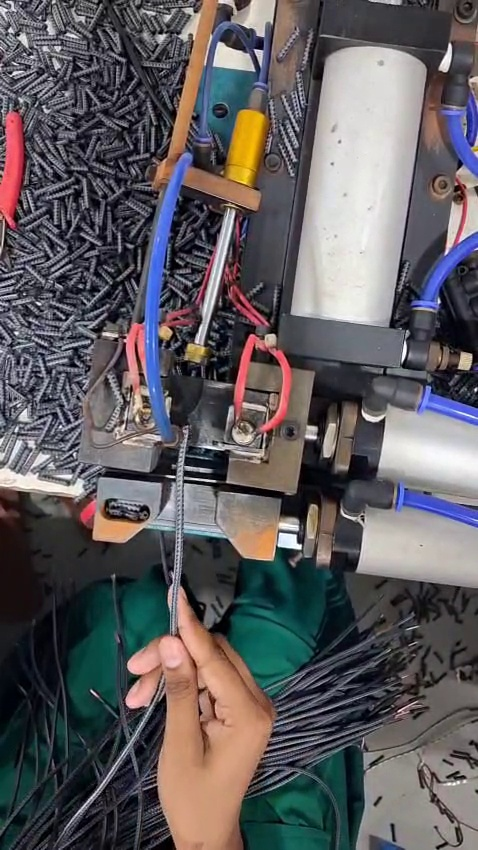intact_wire: (153, 405, 213, 518)
machine: (66, 313, 331, 519)
